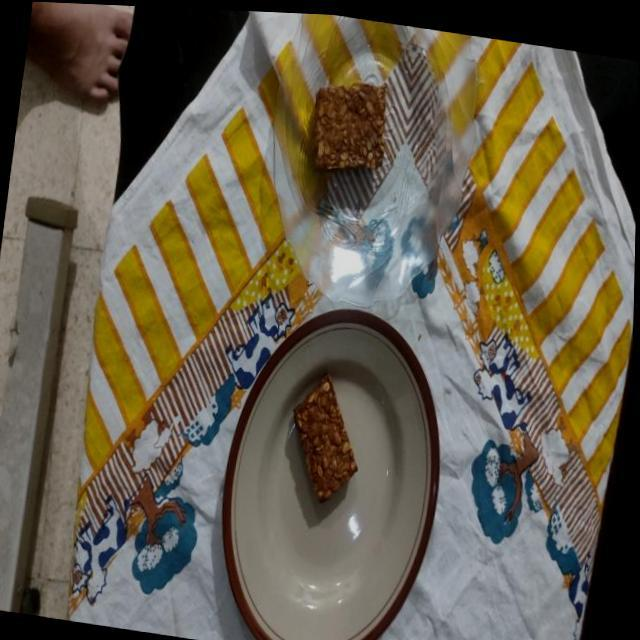tempe_goreng: (294, 374, 356, 502), (314, 82, 385, 170)
